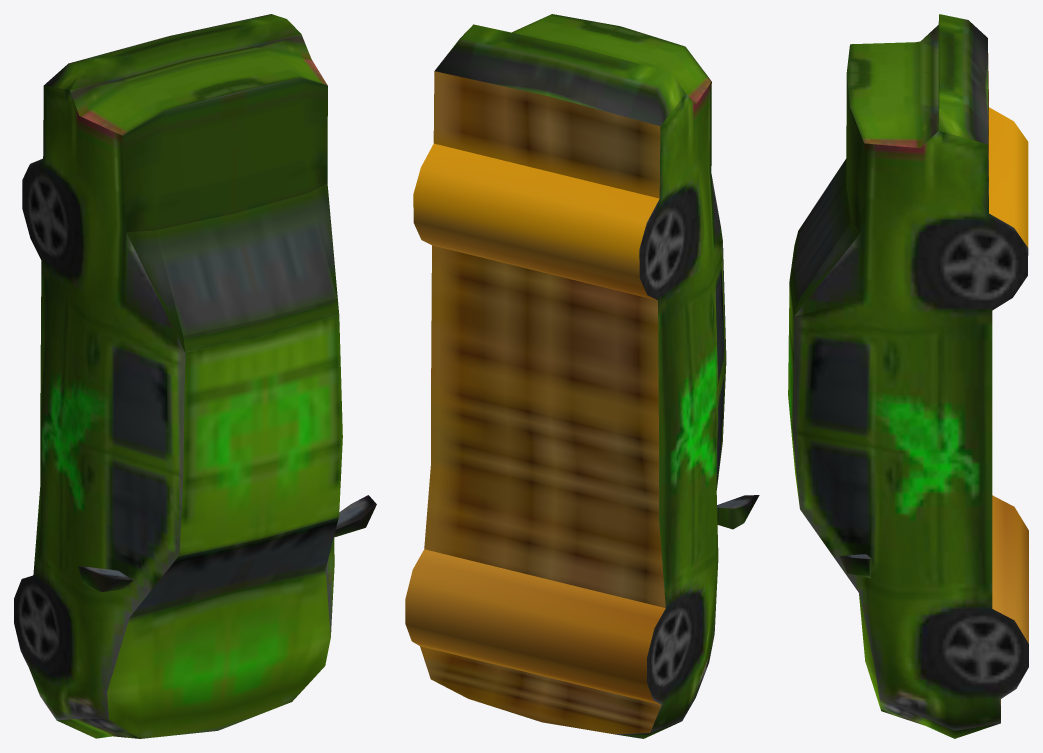
File: RaceCar5_L.fbx
3 renders of one model, left to right at view 1: azimuth 30°, elevation 25°; view 2: azimuth 150°, elevation 25°; view 3: azimuth 270°, elevation 25°, orthographic. The views are drawn at different scales.
Parts seen in each view (by area): view 1: RaceCar5_L; view 2: RaceCar5_L; view 3: RaceCar5_L.
Boxes of the visible parts, bbox=[...] form: RaceCar5_L: bbox=[14, 14, 376, 738]; RaceCar5_L: bbox=[405, 14, 759, 738]; RaceCar5_L: bbox=[788, 14, 1028, 738].
Size of the model in its own units: 223 by 506 by 170.
1 material, 1 textured.
